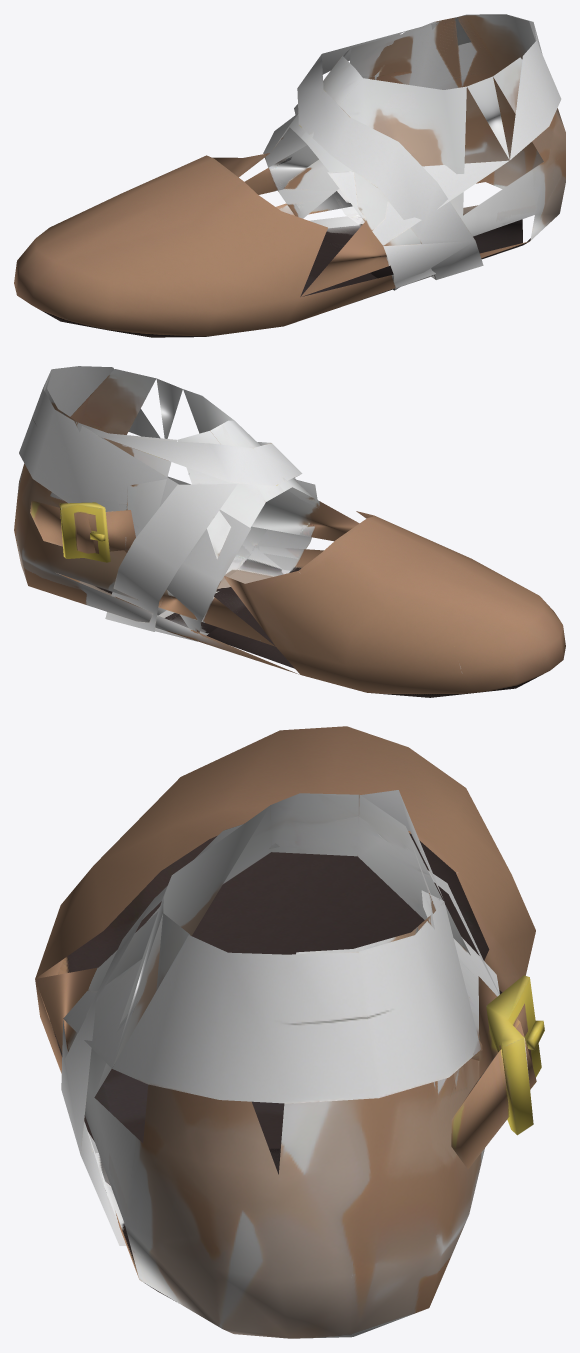
Rendered from healer_sandals.glb.
3 views of the same model, one above another, from view 1: azimuth 30°, elevation 25°; view 2: azimuth 150°, elevation 25°; view 3: azimuth 270°, elevation 25° (orthographic). The views are drawn at different scales.
Bounding box in the file's own units: 0.9575 × 0.334 × 0.3984.
1 material, 1 textured.
